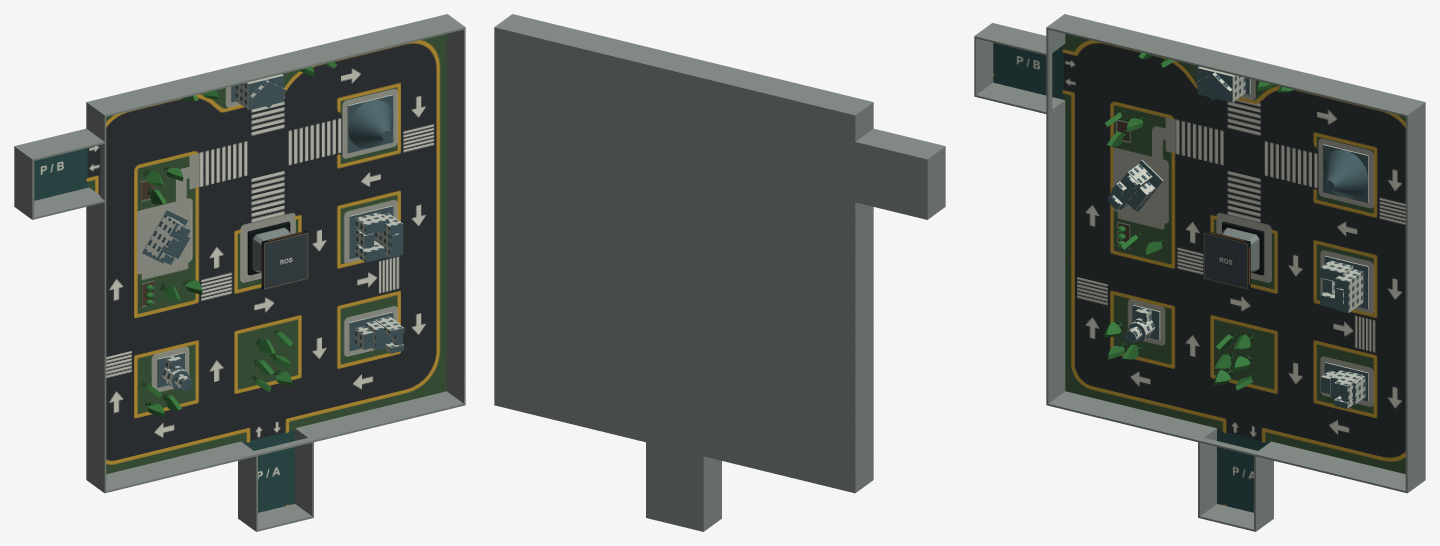
File: ros_sandbox_visual.obj
3 renders of one model, left to right at view 1: azimuth 30°, elevation 25°; view 2: azimuth 150°, elevation 25°; view 3: azimuth 330°, elevation 25°, orthographic.
Parts seen in each view (by area): view 1: sandbox_mesh_007, sandbox_mesh_006, sandbox_mesh_045, sandbox_mesh_001, sandbox_mesh_005, sandbox_mesh_004, sandbox_mesh_003, sandbox_mesh_002, sandbox_mesh_047, sandbox_mesh_046; view 2: sandbox_mesh_007; view 3: sandbox_mesh_007, sandbox_mesh_045, sandbox_mesh_006, sandbox_mesh_001, sandbox_mesh_005, sandbox_mesh_004, sandbox_mesh_003, sandbox_mesh_002, sandbox_mesh_047.
Boxes of the visible parts, box(x1,y1,x2,y2) form: sandbox_mesh_007: box(14, 14, 465, 531); sandbox_mesh_006: box(349, 205, 403, 262); sandbox_mesh_045: box(261, 230, 308, 289); sandbox_mesh_001: box(347, 94, 393, 153); sandbox_mesh_005: box(349, 312, 404, 353); sandbox_mesh_004: box(141, 209, 190, 264); sandbox_mesh_003: box(231, 74, 286, 110); sandbox_mesh_002: box(157, 352, 192, 390); sandbox_mesh_047: box(252, 227, 290, 272); sandbox_mesh_046: box(247, 221, 290, 275); sandbox_mesh_007: box(494, 14, 945, 531); sandbox_mesh_007: box(974, 14, 1425, 531); sandbox_mesh_045: box(1203, 230, 1250, 290); sandbox_mesh_006: box(1320, 256, 1368, 313); sandbox_mesh_001: box(1323, 144, 1368, 202); sandbox_mesh_005: box(1321, 362, 1368, 408); sandbox_mesh_004: box(1107, 160, 1163, 211); sandbox_mesh_003: box(1195, 66, 1250, 102); sandbox_mesh_002: box(1124, 305, 1160, 343); sandbox_mesh_047: box(1222, 227, 1259, 272).
Bounding box in the file's own units: 4.8 × 4.8 × 0.37.
11 materials, 7 textured.
